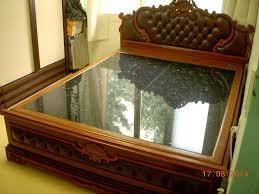Bed-Mattress: (7, 3, 235, 184)
